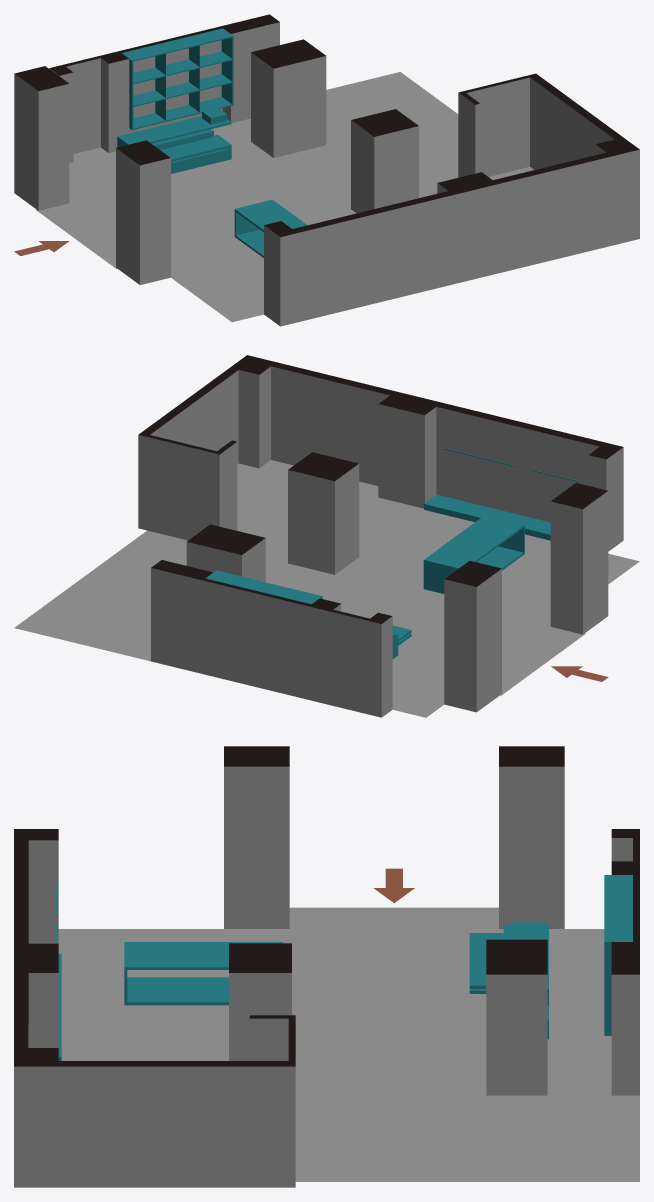
The model's file is Zegna_Milano_ModelRef 1.FBX.
3 renders of one model, top to bottom at view 1: azimuth 30°, elevation 25°; view 2: azimuth 150°, elevation 25°; view 3: azimuth 270°, elevation 25°, orthographic. The views are drawn at different scales.
Visible parts, largest first — view 1: boxmodel, Colonne ingresso, Scaffale molto di design, SLG Table, Concept Table; view 2: boxmodel, Colonne ingresso, Concept Table, Mensola molto di design, Scaffale molto di design; view 3: boxmodel, Colonne ingresso, Concept Table, Scaffale molto di design, SLG Table, Ingresso.
Part boxes in pixels (bbox=[...]): boxmodel: bbox=[36, 14, 639, 326]; Colonne ingresso: bbox=[14, 66, 170, 284]; Scaffale molto di design: bbox=[122, 28, 233, 129]; SLG Table: bbox=[117, 107, 231, 173]; Concept Table: bbox=[234, 199, 307, 257]; boxmodel: bbox=[14, 355, 639, 717]; Colonne ingresso: bbox=[444, 483, 608, 712]; Concept Table: bbox=[423, 515, 524, 593]; Mensola molto di design: bbox=[424, 494, 550, 540]; Scaffale molto di design: bbox=[205, 570, 322, 604]; boxmodel: bbox=[14, 829, 639, 1187]; Colonne ingresso: bbox=[224, 746, 564, 928]; Concept Table: bbox=[124, 942, 283, 1005]; Scaffale molto di design: bbox=[604, 875, 632, 1035]; SLG Table: bbox=[469, 922, 548, 1039]; Ingresso: bbox=[373, 868, 414, 903].
Size of the model in its own units: 1266 by 301 by 1050.
